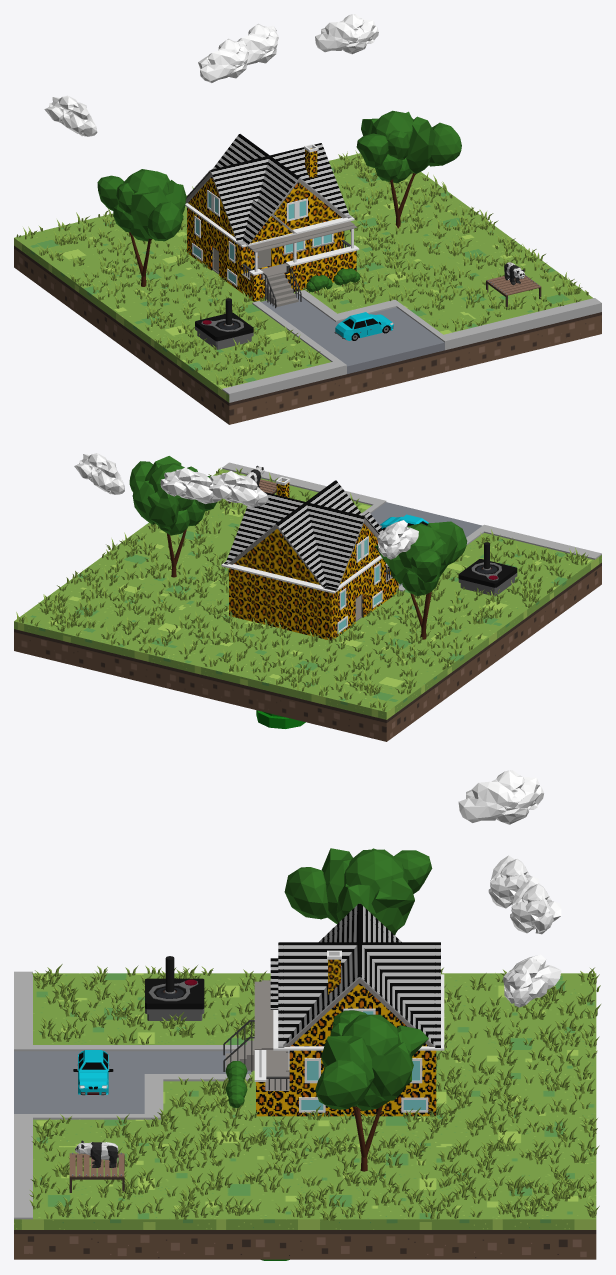
3 renders of one model, top to bottom at view 1: azimuth 30°, elevation 25°; view 2: azimuth 150°, elevation 25°; view 3: azimuth 270°, elevation 25°, orthographic. The views are drawn at different scales.
Visible parts, largest first — view 1: Cube.006, Cube.637, Circle.012_Grass_0.192, Cube.007, tree, tree.001, OBJRANDOM_JOYSTICK, VEHICLES_CAR, Cube.009; view 2: Cube.006, Cube.637, Circle.012_Grass_0.192, Cube.007, tree.001, tree, OBJRANDOM_JOYSTICK, UNDERGROUND_PIPES; view 3: Cube.006, Circle.012_Grass_0.192, Cube.637, tree, Cube.007, tree.001, OBJRANDOM_JOYSTICK, VEHICLES_CAR, Cube.009, ANIMAL_PANDA.
Boxes of the visible parts, box(x1,y1,x2,y2) form: Cube.006: box(14, 153, 601, 424); Cube.637: box(185, 134, 359, 308); Circle.012_Grass_0.192: box(16, 150, 588, 386); Cube.007: box(44, 14, 378, 136); tree: box(356, 110, 461, 228); tree.001: box(97, 169, 186, 286); OBJRANDOM_JOYSTICK: box(195, 298, 253, 349); VEHICLES_CAR: box(334, 312, 393, 340); Cube.009: box(486, 275, 541, 306); Cube.006: box(14, 462, 601, 741); Cube.637: box(221, 477, 398, 640); Circle.012_Grass_0.192: box(16, 468, 588, 711); Cube.007: box(74, 453, 418, 559); tree.001: box(375, 521, 467, 639); tree: box(129, 456, 216, 577); OBJRANDOM_JOYSTICK: box(458, 542, 517, 596); UNDERGROUND_PIPES: box(256, 710, 305, 728); Cube.006: box(14, 971, 596, 1259); Circle.012_Grass_0.192: box(29, 964, 600, 1220); Cube.637: box(223, 903, 444, 1116); tree: box(315, 1010, 428, 1171); Cube.007: box(458, 770, 561, 1007); tree.001: box(284, 848, 432, 935); OBJRANDOM_JOYSTICK: box(145, 956, 204, 1020); VEHICLES_CAR: box(73, 1050, 113, 1095); Cube.009: box(69, 1152, 124, 1192); ANIMAL_PANDA: box(75, 1140, 118, 1167).
Bounding box in the file's own units: 4071 × 2759 × 4040.
36 materials, 4 textured.
